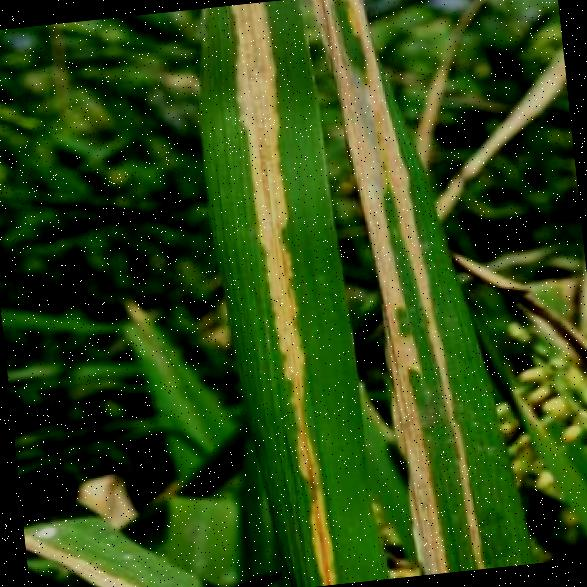Bacteria_Leaf_Blight: (306, 0, 513, 567), (181, 0, 380, 586)
